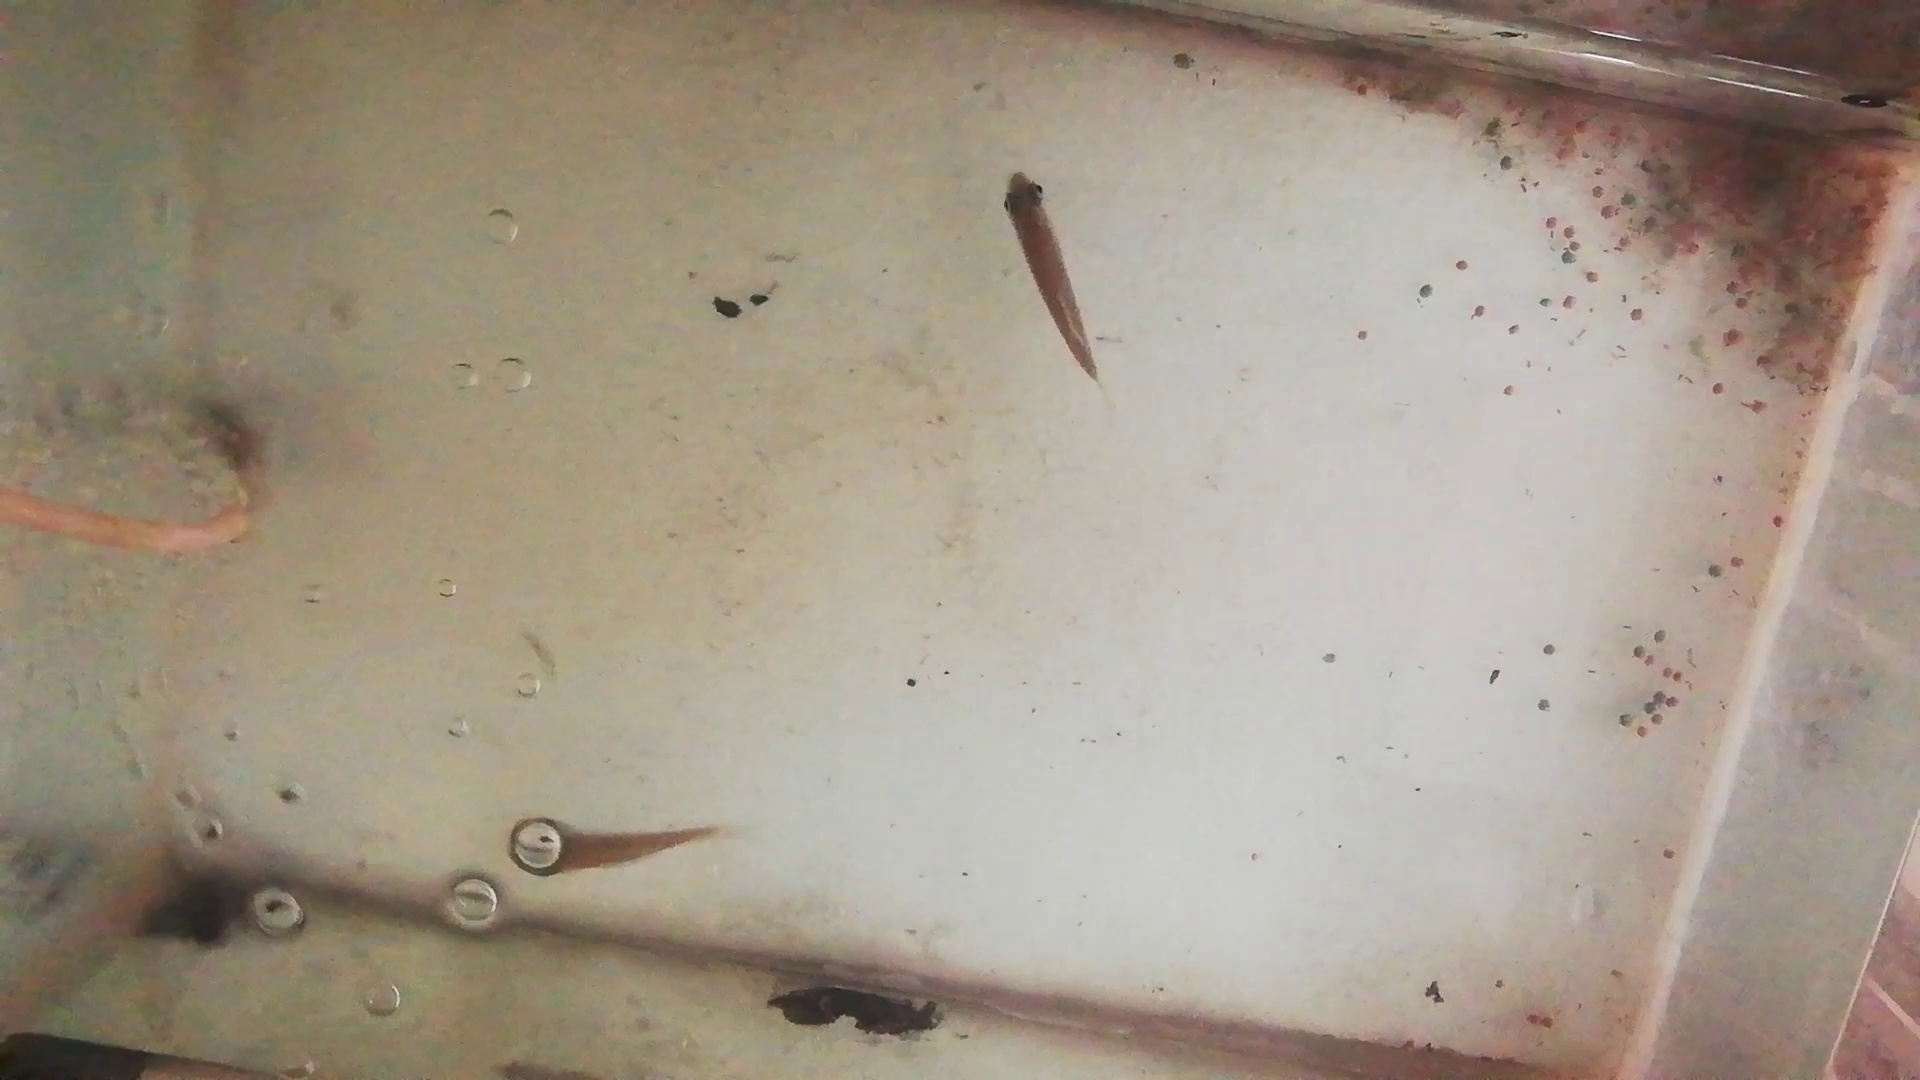fish: (1001, 166, 1097, 380), (504, 822, 720, 880)
